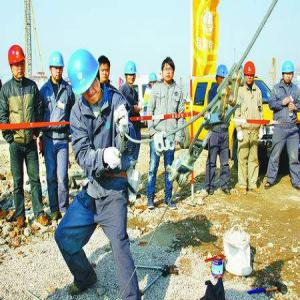blue: (69, 48, 102, 104), (48, 51, 65, 83), (282, 58, 295, 86), (124, 61, 138, 86), (216, 66, 229, 87), (149, 72, 158, 89)
none: (162, 58, 176, 85), (99, 57, 112, 86)
red: (9, 46, 26, 82), (244, 63, 256, 85)
